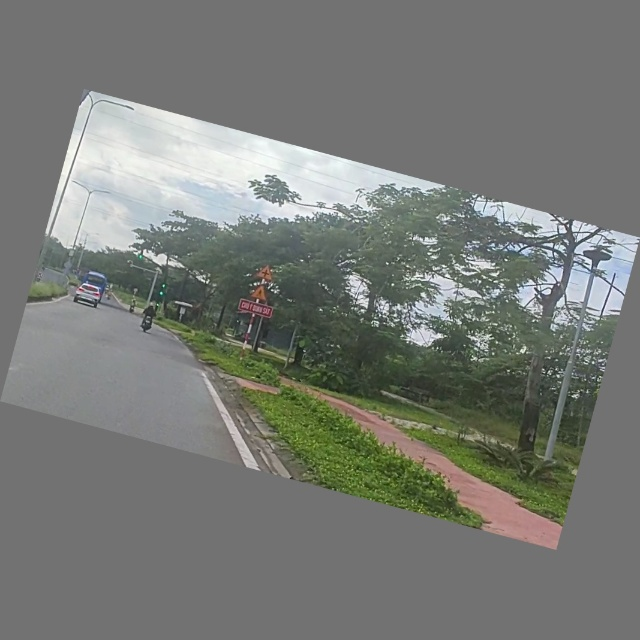W.205a: (254, 262, 277, 283)
W.224: (248, 282, 275, 304)
